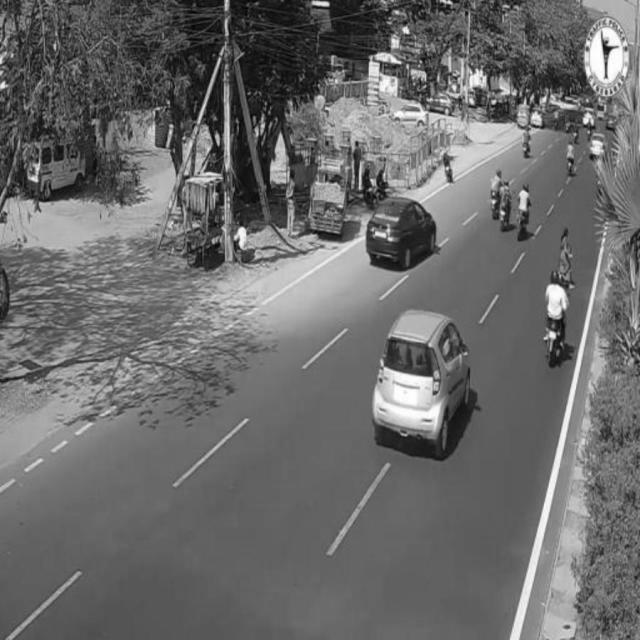vehicle: (375, 306, 473, 450), (365, 198, 439, 274), (547, 263, 571, 371), (518, 184, 532, 238), (501, 177, 513, 233), (588, 132, 605, 160), (493, 170, 503, 217), (566, 140, 576, 177), (522, 126, 530, 156)
